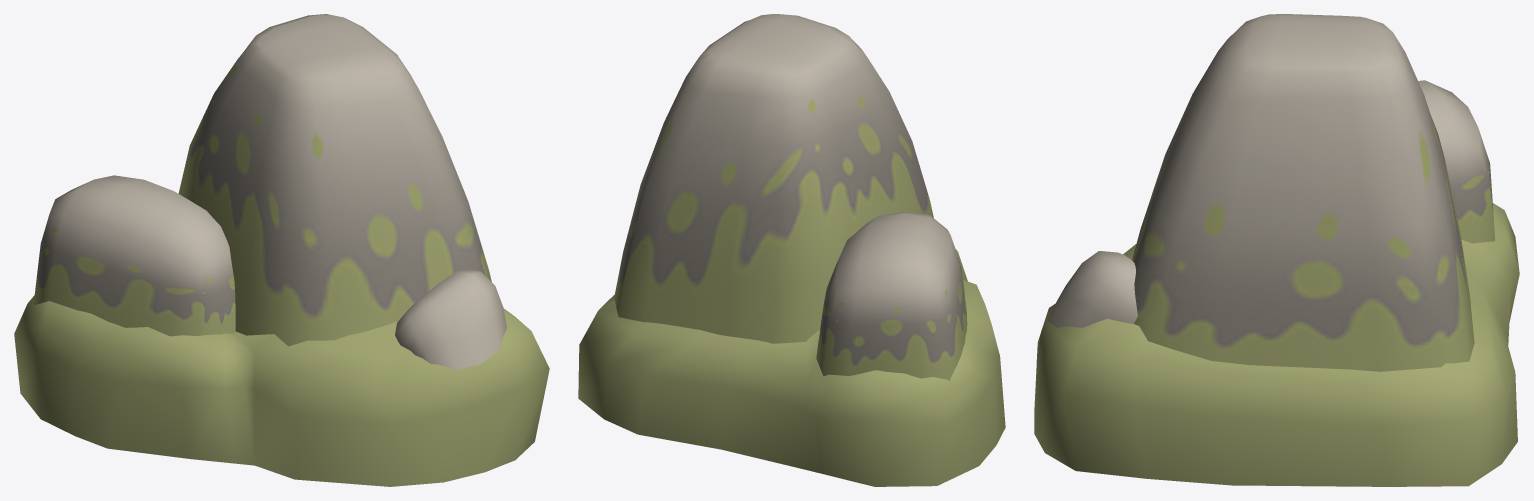
The model's file is rock_1x1_b.glb.
3 views of the same model, side by side, from view 1: azimuth 30°, elevation 25°; view 2: azimuth 150°, elevation 25°; view 3: azimuth 270°, elevation 25° (orthographic). The views are drawn at different scales.
Parts seen in each view (by area): view 1: rock_1x1_b; view 2: rock_1x1_b; view 3: rock_1x1_b.
Part boxes in pixels (x1,y1,x2,y2): rock_1x1_b: (14, 14, 549, 486); rock_1x1_b: (578, 14, 1005, 486); rock_1x1_b: (1034, 14, 1519, 486).
Size of the model in its own units: 0.7755 by 0.6764 by 0.7795.
1 material, 1 textured.
